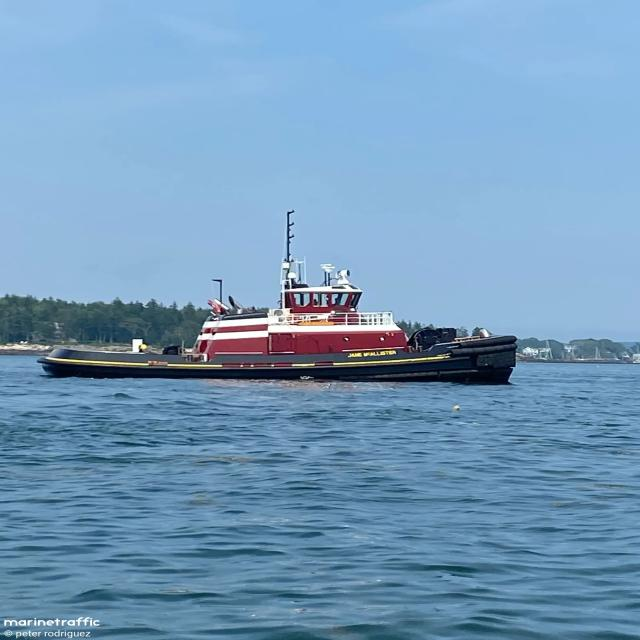Tug: (39, 222, 517, 384)
